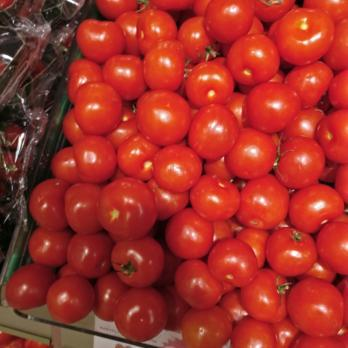Tomato: (83, 0, 348, 346), (33, 139, 101, 324)
